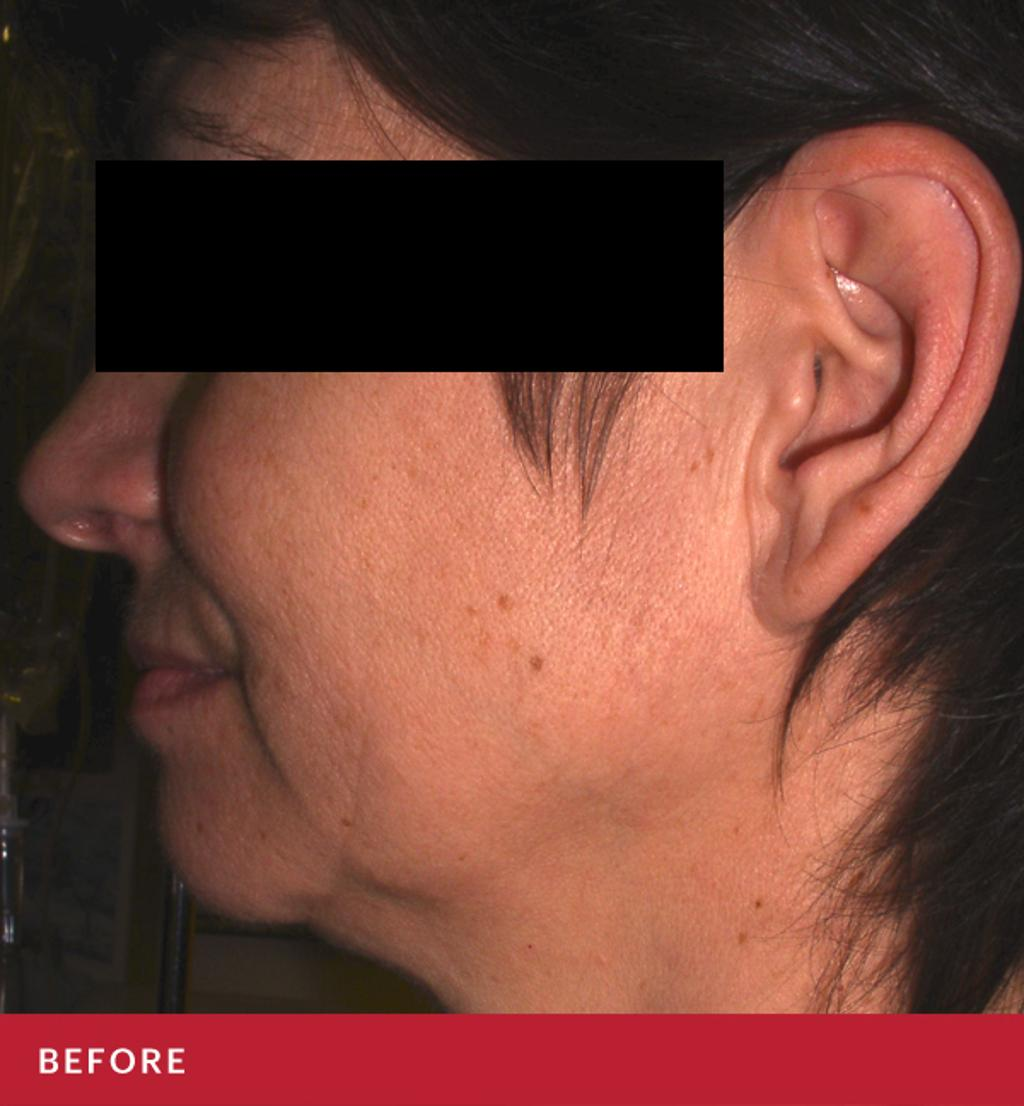face: (13, 39, 741, 923)
